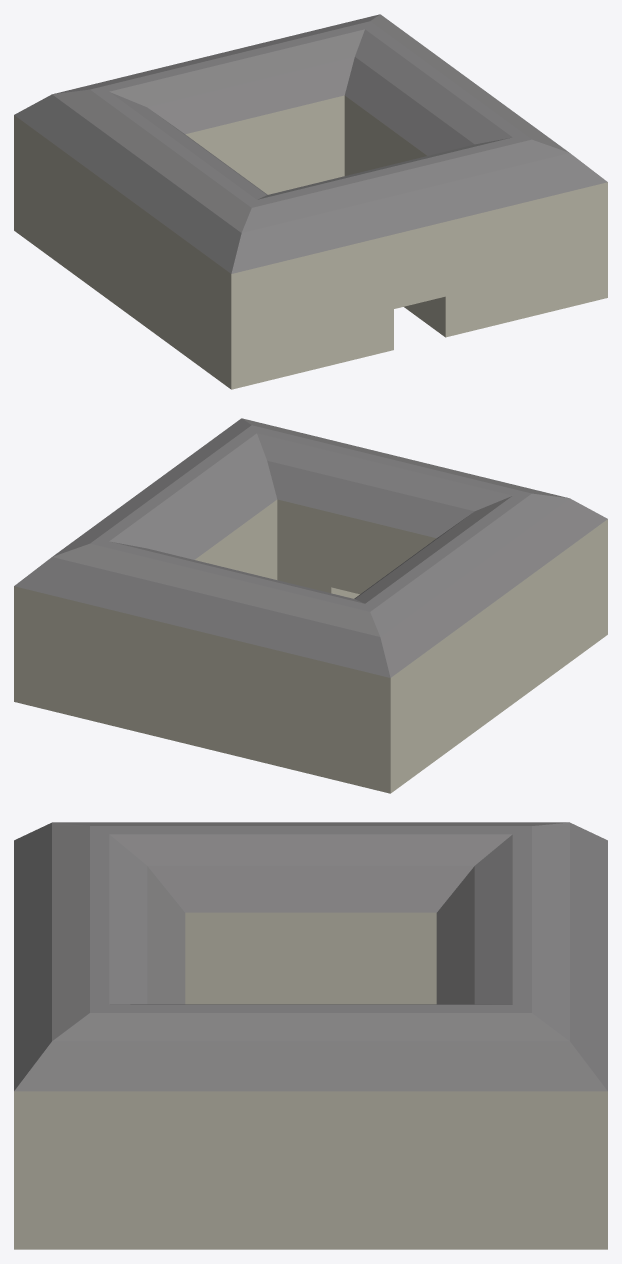
Rendered from Building_01.fbx.
3 views of the same model, one above another, from view 1: azimuth 30°, elevation 25°; view 2: azimuth 150°, elevation 25°; view 3: azimuth 270°, elevation 25° (orthographic). The views are drawn at different scales.
Visible parts, largest first — view 1: Building_01; view 2: Building_01; view 3: Building_01.
Boxes of the visible parts, x1,y1,x2,y2 form: Building_01: (14, 14, 607, 389); Building_01: (14, 418, 607, 793); Building_01: (14, 822, 607, 1249).
Size of the model in its own units: 150 by 56.96 by 150.
